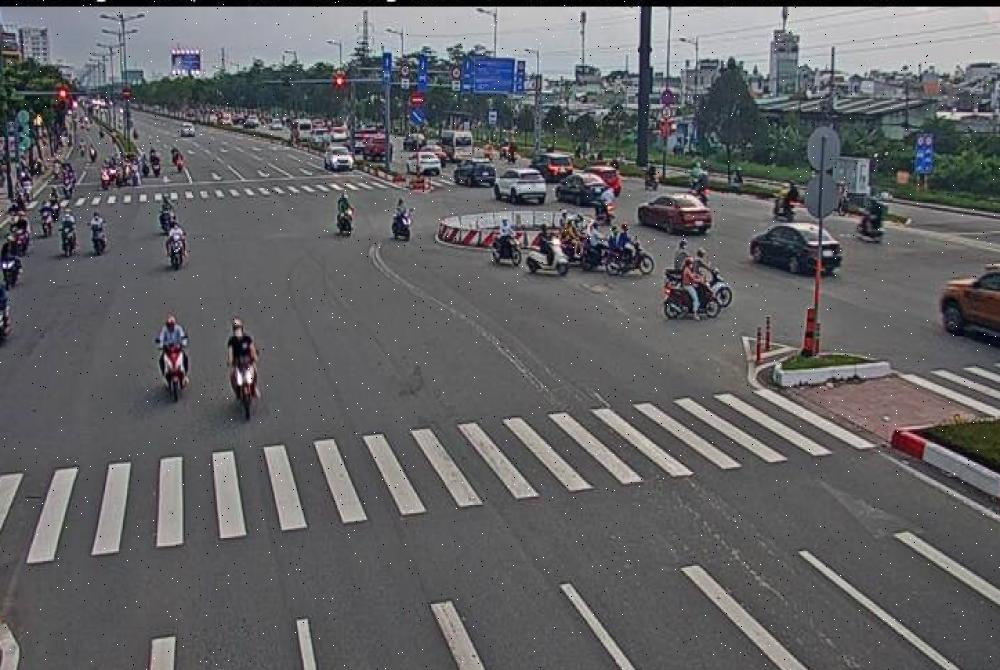car: (931, 251, 1000, 343), (739, 218, 838, 279), (631, 184, 711, 242), (484, 163, 551, 211), (557, 167, 619, 209), (457, 148, 497, 192), (406, 138, 442, 177)
